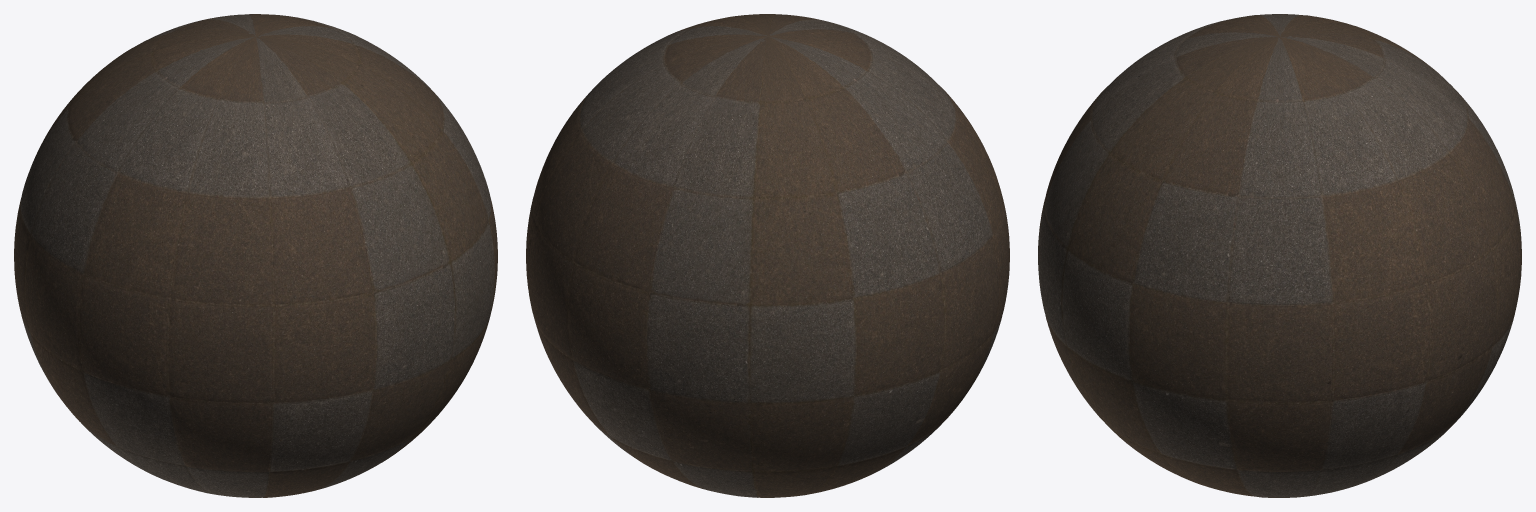
The model's file is concrete_pavement_03_1k.gltf.
The picture shows the model from 3 angles, left to right: view 1: azimuth 30°, elevation 25°; view 2: azimuth 150°, elevation 25°; view 3: azimuth 270°, elevation 25°; orthographic projection.
Visible parts, largest first — view 1: sphere_gltf; view 2: sphere_gltf; view 3: sphere_gltf.
Boxes of the visible parts, x1,y1,x2,y2 form: sphere_gltf: (14, 14, 497, 497); sphere_gltf: (526, 14, 1009, 497); sphere_gltf: (1038, 14, 1521, 497).
Size of the model in its own units: 2.1 by 2.1 by 2.1.
1 material, 1 textured.
